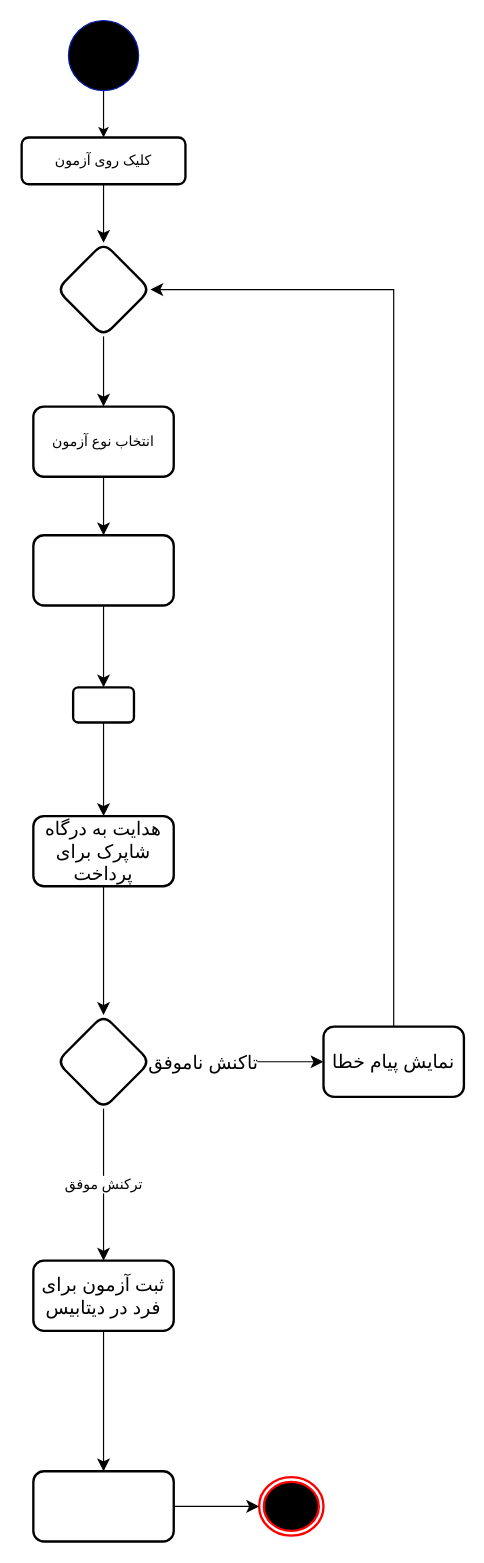
The diagram is 484 pixels wide and 1563 high, and some of its shapes have lost their labels. Each missing label, with the centre of its shape:
"انتخاب زمان آزمون" goes at pixel 103 570.
"تایید" goes at pixel 103 704.
"نمایش اطلاعات آزمون جدید در بخش آژمون ها" goes at pixel 103 1506.
